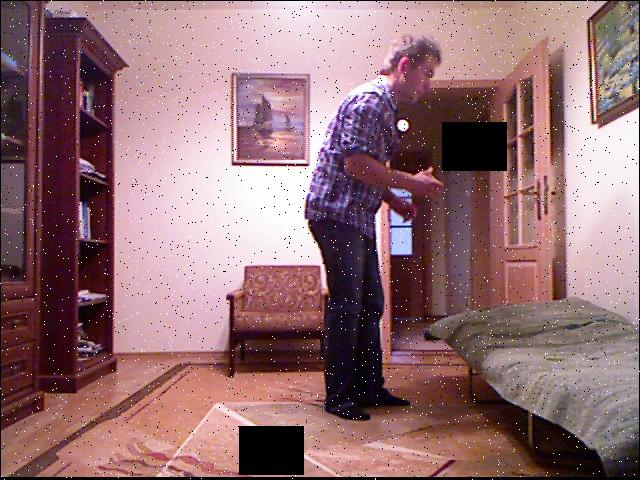standing: (299, 31, 449, 424)
